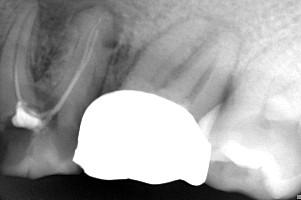Dental Caries: (29, 0, 145, 97), (160, 16, 248, 89)
Endo-Periodontal Lesion: (29, 49, 57, 84)
